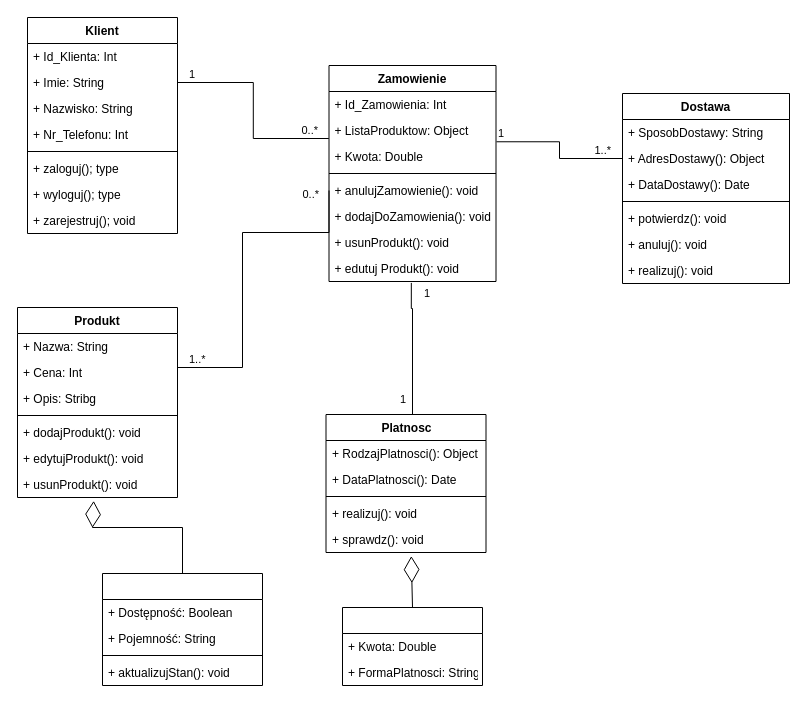
Image size: 807x706. Some labels were removed from this diagram. Each missing label, with the box of its shape:
Magazyn: (102, 572, 262, 686)
RodzajPlatnosci: (342, 606, 482, 686)
